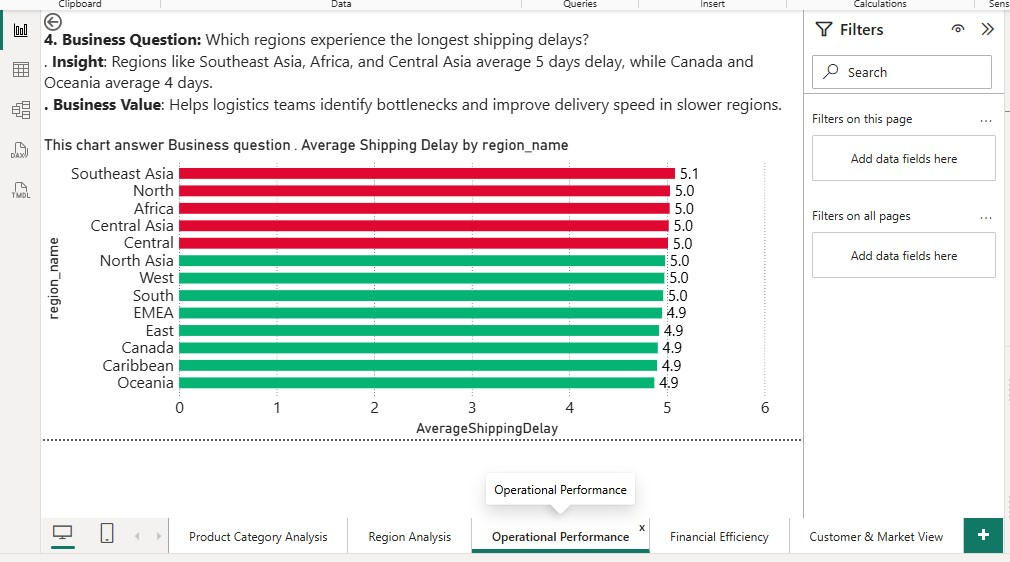

The page's visual inventory and layout, read from the dashboard file:
{"tool":"powerbi","page":{"name":"Operational Performance","canvas":[1280,720],"ordinal":2},"visuals":[{"type":"textbox","box":[0,25.2,1280,186.5],"z":2000},{"type":"actionButton","box":[0,0,100,40],"z":3000},{"type":"barChart","title":"This chart answer Business question . Average Shipping Delay by region_name","fields":{"Category":["Customers.region_name"],"Y":["Orders.AverageShippingDelay"]},"box":[0,211.7,1280,509],"z":4000}]}

Visuals, with their boxes on the page's 1280x720 design canvas (x1, y1, x2, y2). These are canvas units, not pixel positions in the 1010x562 screenshot, which may show the page scaled, cropped or inside an application window:
textbox: region(0, 25, 1280, 212)
actionButton: region(0, 0, 100, 40)
"This chart answer Business question . Average Shipping Delay by region_name" barChart: region(0, 212, 1280, 721)
